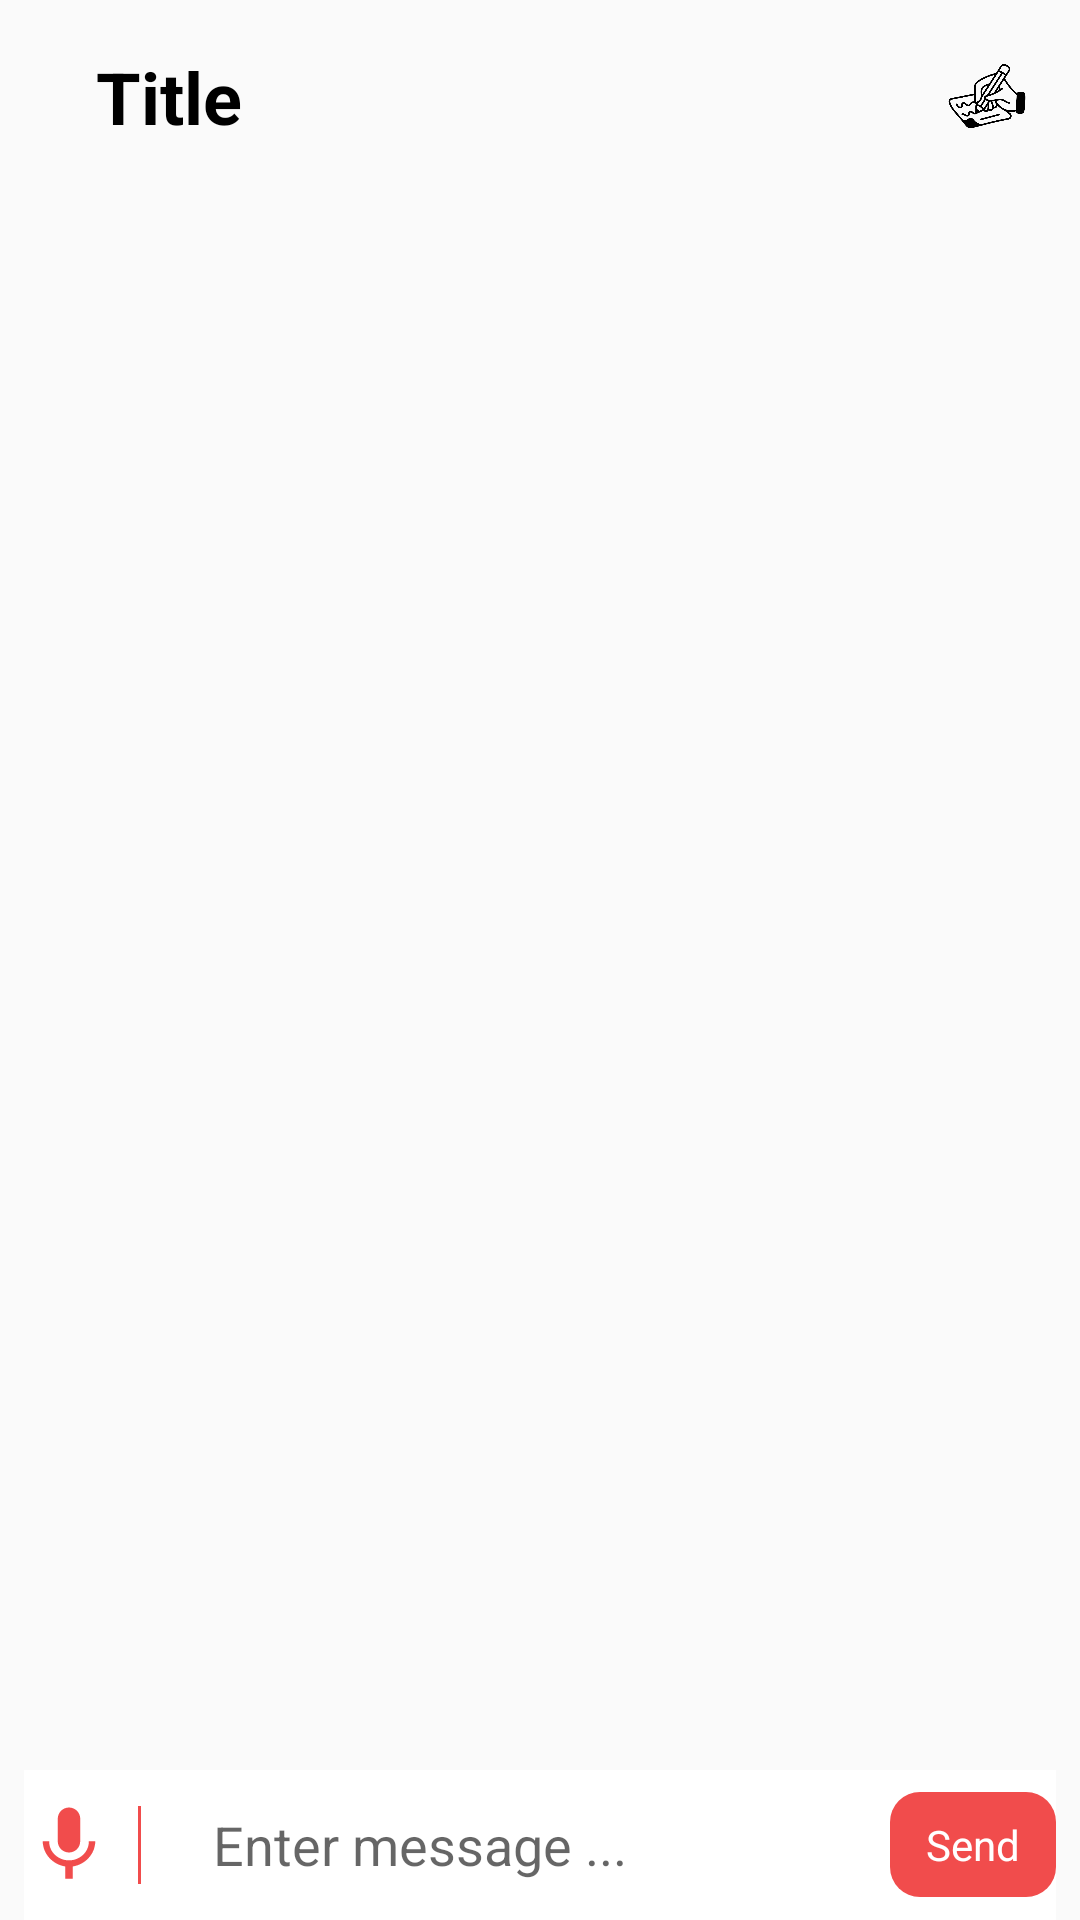

Named icons in this screenshot (1080px×1920px) and their bounding boxes, detection(x1, y1, x2, y2):
mic: detection(42, 1807, 96, 1879)
writing: detection(948, 64, 1026, 128)
